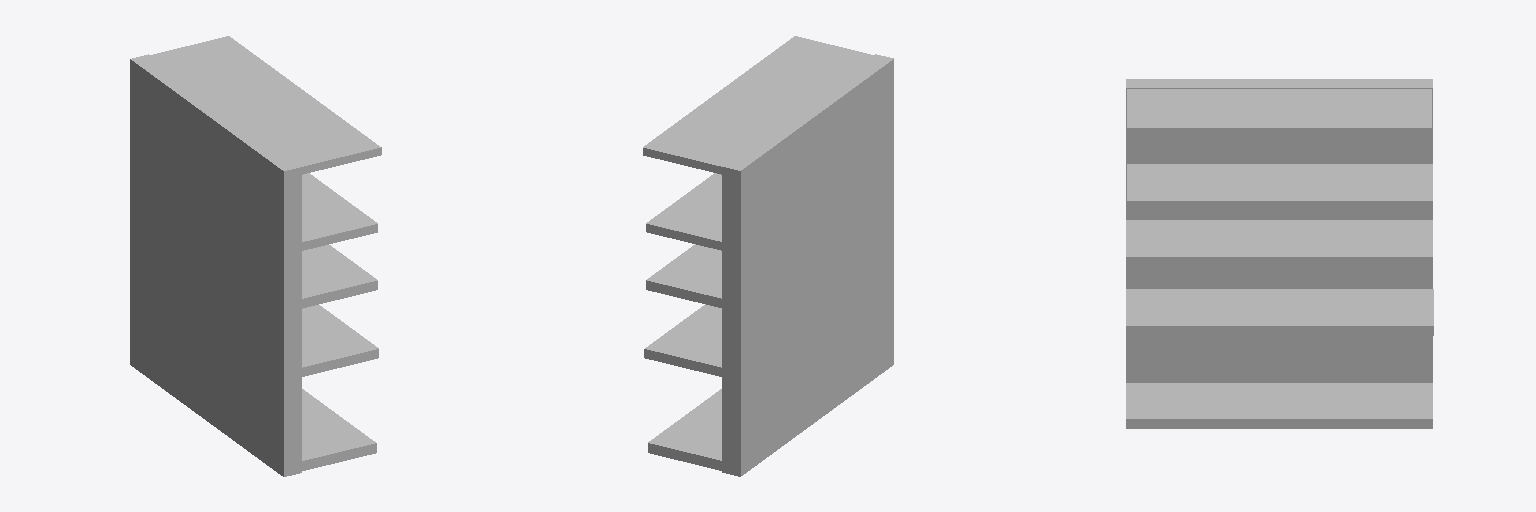
File: pantryShelf.obj
The picture shows the model from 3 angles: view 1: azimuth 30°, elevation 25°; view 2: azimuth 150°, elevation 25°; view 3: azimuth 270°, elevation 25°; orthographic projection.
Visible parts, largest first — view 1: Cube; view 2: Cube; view 3: Cube.
Part boxes in pixels (bbox=[...]): Cube: bbox=[130, 36, 381, 476]; Cube: bbox=[643, 36, 893, 476]; Cube: bbox=[1126, 79, 1433, 428].
Bounding box in the file's own units: 0.7402 × 2.2 × 2.